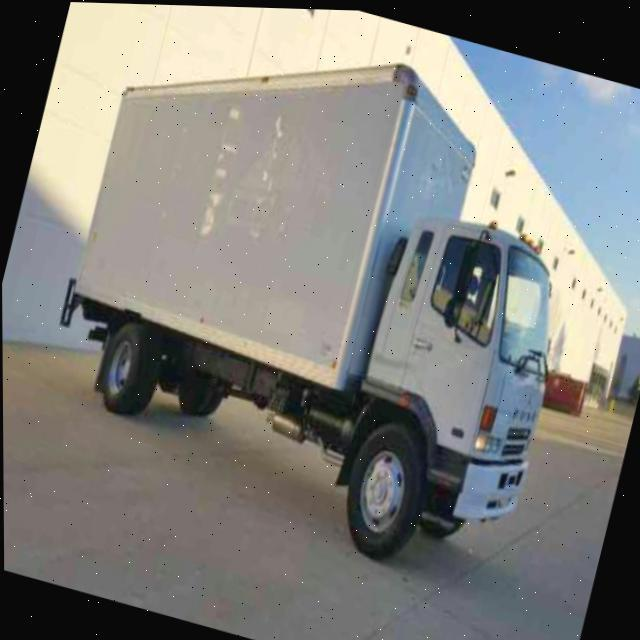truck: (20, 1, 613, 584)
